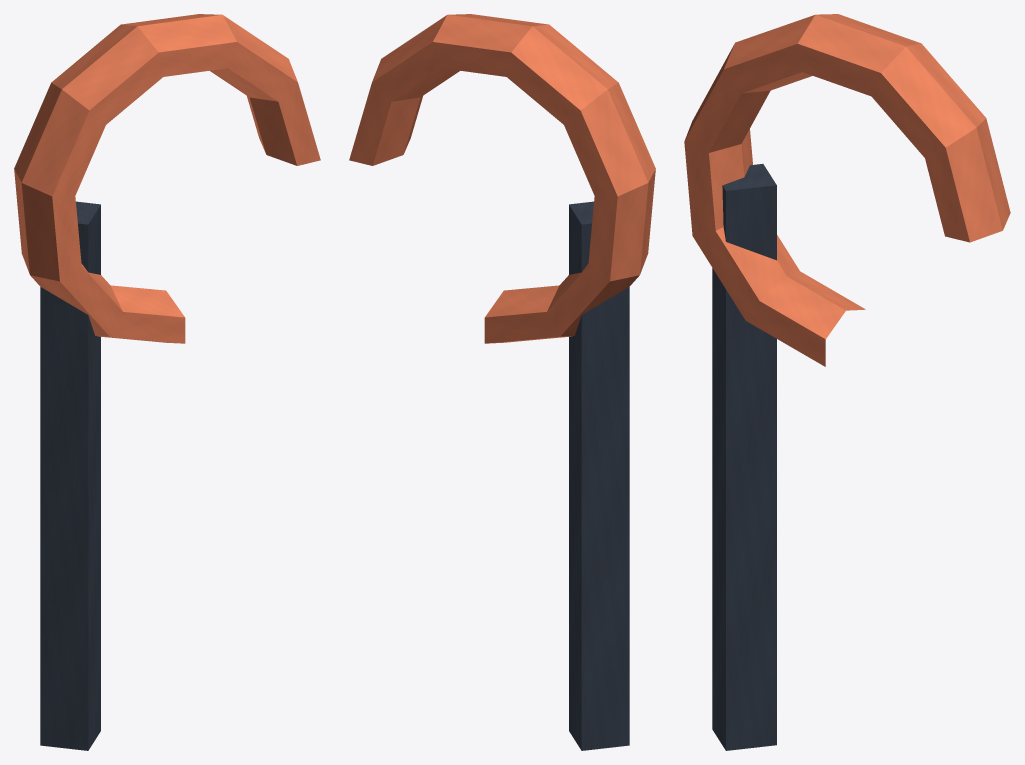
Rendered from atlas100-s027-a05.lod1.glb.
The picture shows the model from 3 angles, left to right: view 1: azimuth 30°, elevation 25°; view 2: azimuth 150°, elevation 25°; view 3: azimuth 330°, elevation 25°; orthographic projection. The views are drawn at different scales.
Visible parts, largest first — view 1: atlas100-s027-a05:part-001, atlas100-s027-a05:part-000; view 2: atlas100-s027-a05:part-001, atlas100-s027-a05:part-000; view 3: atlas100-s027-a05:part-001, atlas100-s027-a05:part-000.
Boxes of the visible parts, x1=… form: atlas100-s027-a05:part-001: x1=14, y1=14, x2=320, y2=343; atlas100-s027-a05:part-000: x1=40, y1=201, x2=100, y2=750; atlas100-s027-a05:part-001: x1=349, y1=14, x2=655, y2=343; atlas100-s027-a05:part-000: x1=569, y1=201, x2=629, y2=750; atlas100-s027-a05:part-001: x1=684, y1=14, x2=1010, y2=366; atlas100-s027-a05:part-000: x1=712, y1=164, x2=776, y2=750.
Bounding box in the file's own units: 0.3677 × 0.8371 × 0.0832.
2 materials, 2 textured.
